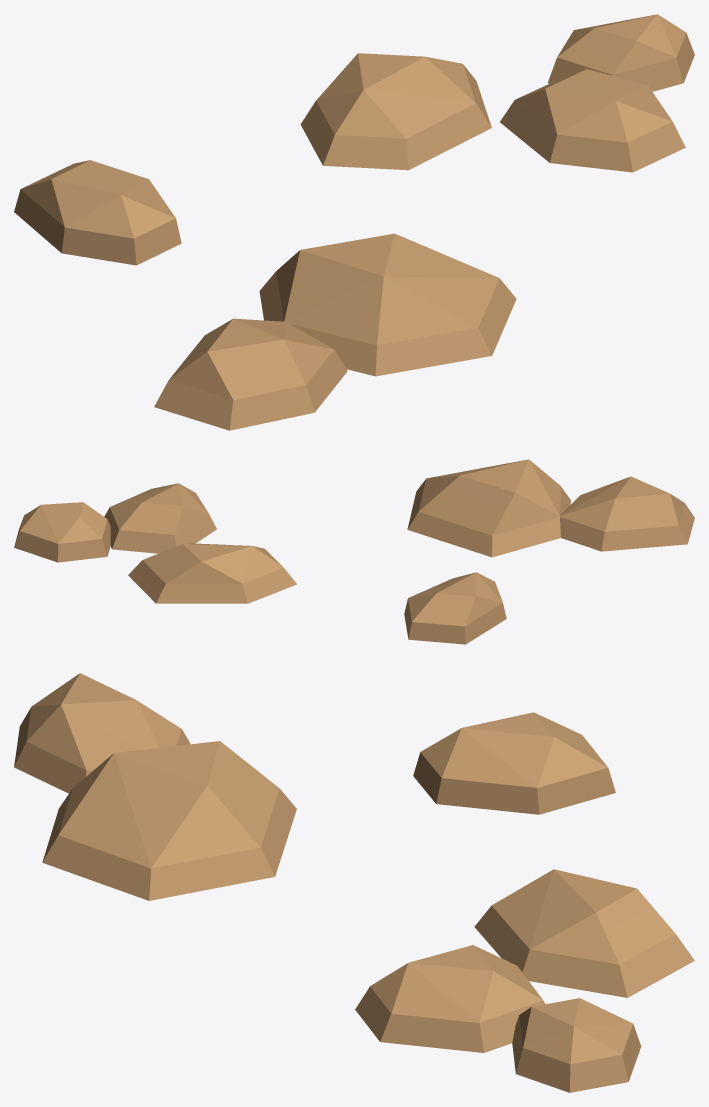
Rendered from rock__pebbles4_dirt_light.glb.
3 views of the same model, one above another, from view 1: azimuth 30°, elevation 25°; view 2: azimuth 150°, elevation 25°; view 3: azimuth 270°, elevation 25° (orthographic). The views are drawn at different scales.
Visible parts, largest first — view 1: pebbles4.dirt.light; view 2: pebbles4.dirt.light; view 3: pebbles4.dirt.light.
Boxes of the visible parts, x1,y1,x2,y2 form: pebbles4.dirt.light: (14,14,694,430); pebbles4.dirt.light: (14,459,694,644); pebbles4.dirt.light: (14,673,694,1092).
Size of the model in its own units: 2.21 by 0.1985 by 1.67.
1 material, 1 textured.
